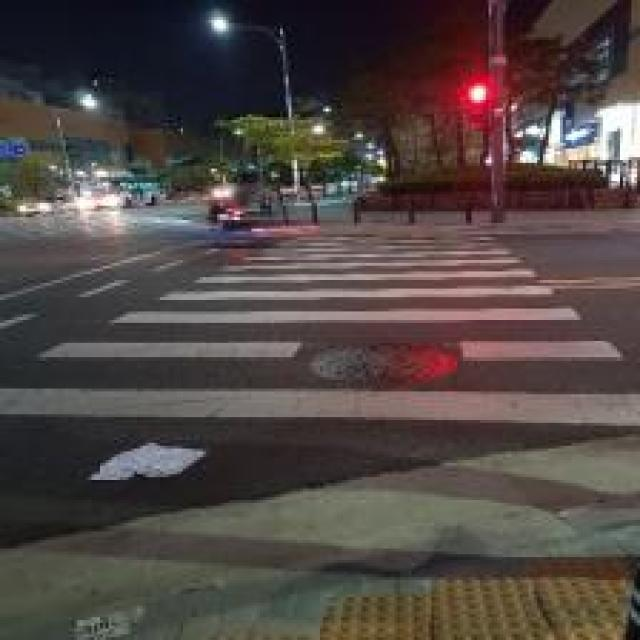crosswalk: (0, 209, 636, 393)
